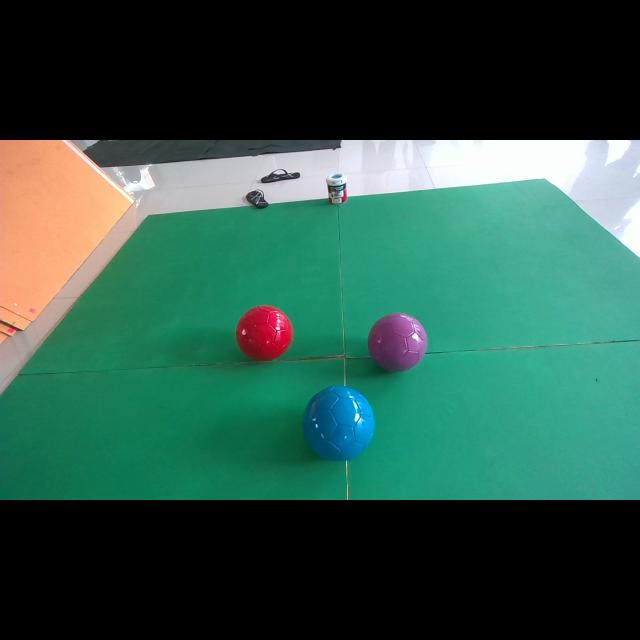B: (302, 385, 375, 461)
P: (368, 312, 428, 371)
R: (236, 305, 292, 360)
